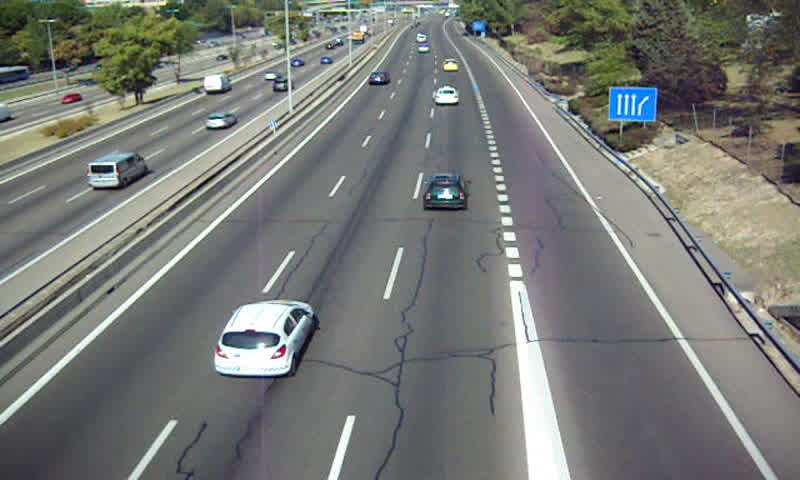car: (212, 301, 315, 377), (421, 174, 468, 208), (435, 86, 459, 105), (366, 72, 390, 86)
